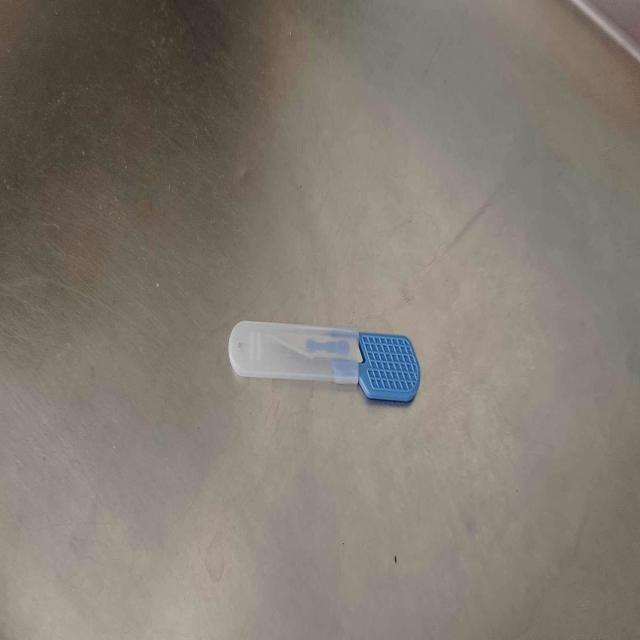Sharps: (226, 318, 421, 404)
